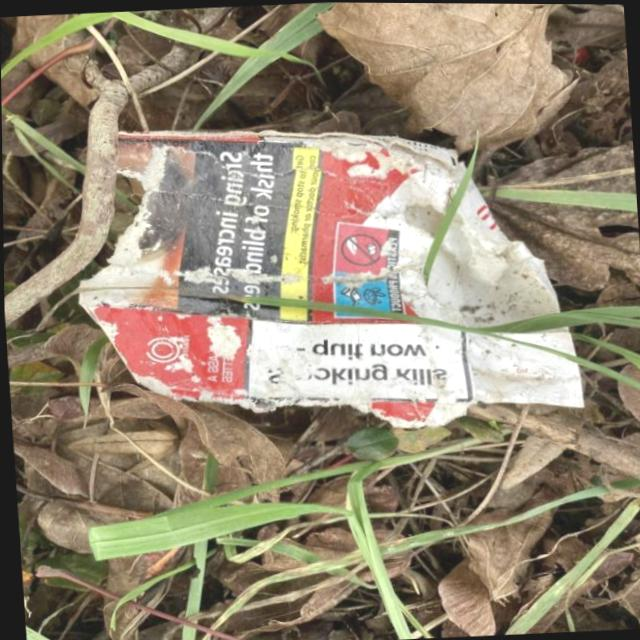Paper: (60, 105, 588, 449)
